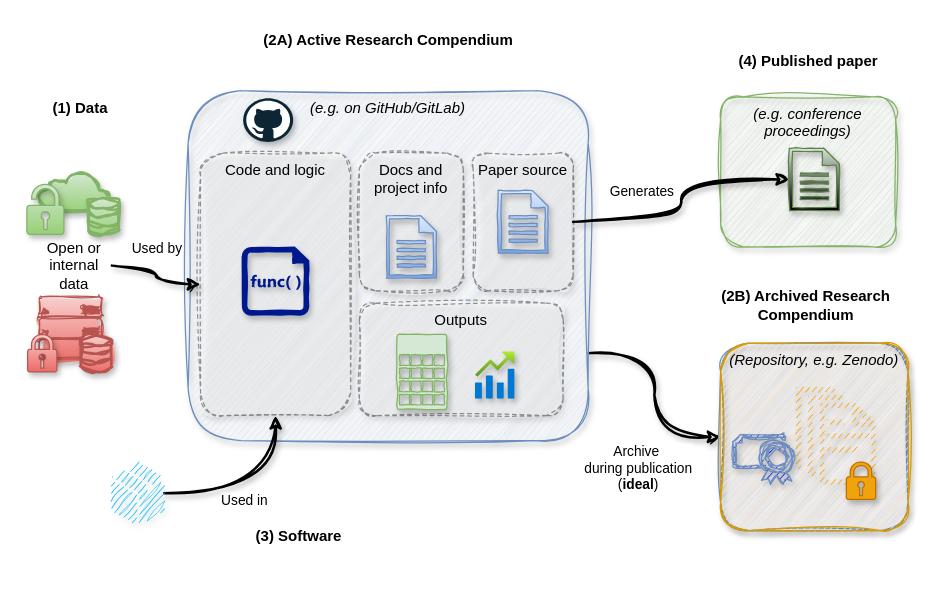
The diagram is 938 pixels wide and 590 high, and some of its shapes have lost their labels. Each missing label, with the centre of its shape:
"DOI" belongs at (765,460).
"paper.qmd" belongs at (524,223).
"Price index software package" belongs at (138,494).
